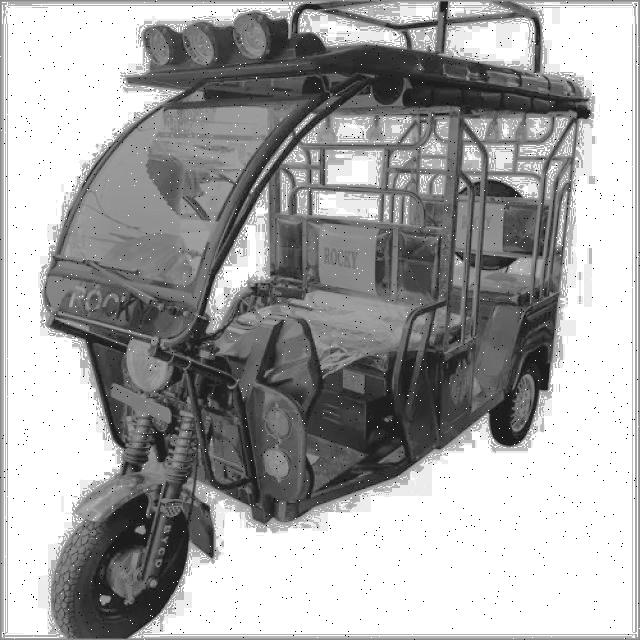Toto: (51, 40, 589, 632)
